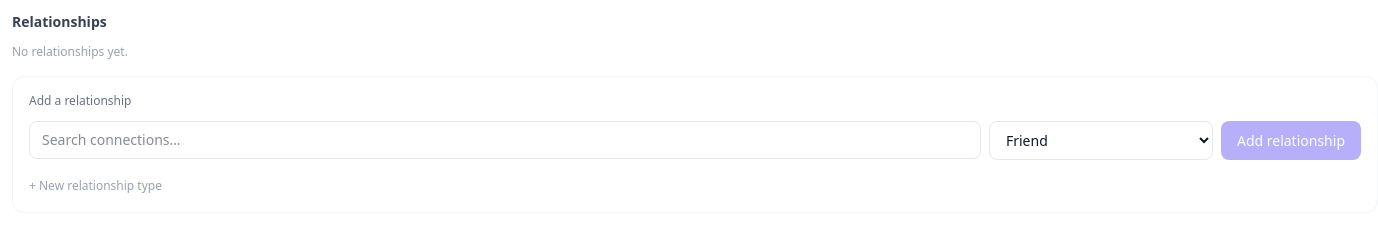
Test: ConnectionSearch — filtering › typing shows matching suggestions
In the field labelled "Search connections…": point(505, 140) top-left (29, 121), bottom-right (981, 159), type "jor"
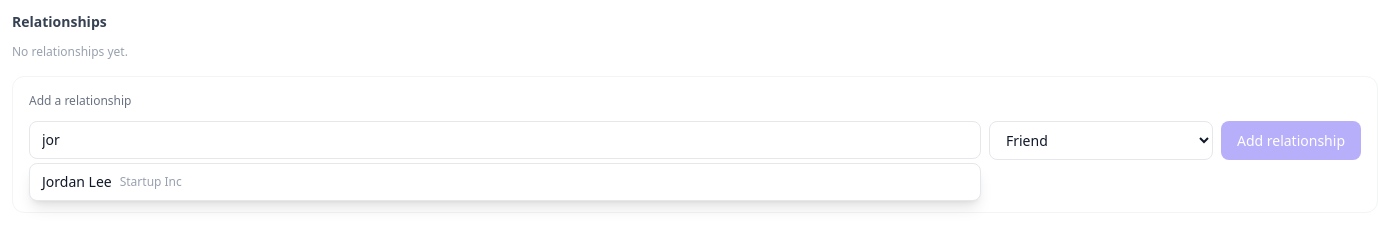
Check: the option "Jordan Lee Startup Inc" is shown, box top-left (42, 172), bottom-right (182, 191)
